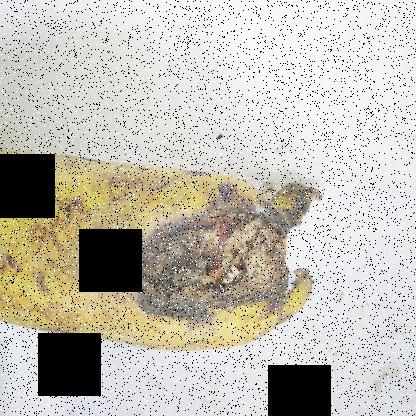ripe: (0, 122, 301, 364)
rotten: (98, 165, 326, 347)
